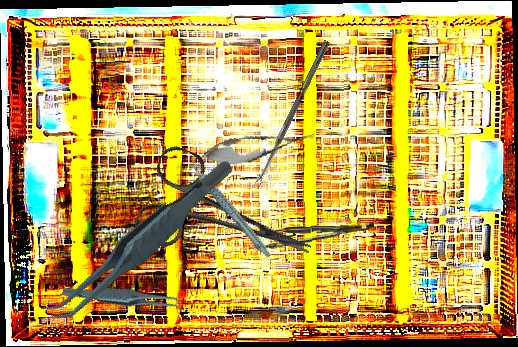Handpiece: (188, 144, 273, 270)
Iris Scissors: (129, 142, 328, 299)
Micro Scissor: (199, 121, 318, 172)
Surgical Spoon: (251, 39, 331, 190)
Tissue Forceps: (19, 158, 259, 328), (61, 261, 186, 335), (248, 223, 375, 249)
